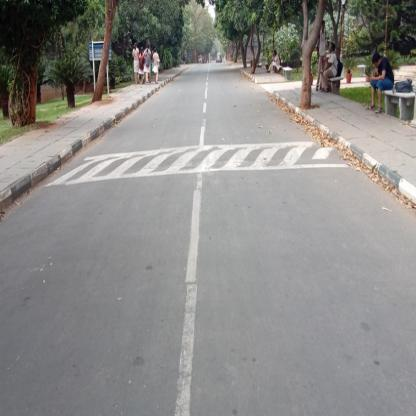speed-bumps: (58, 137, 346, 183)
